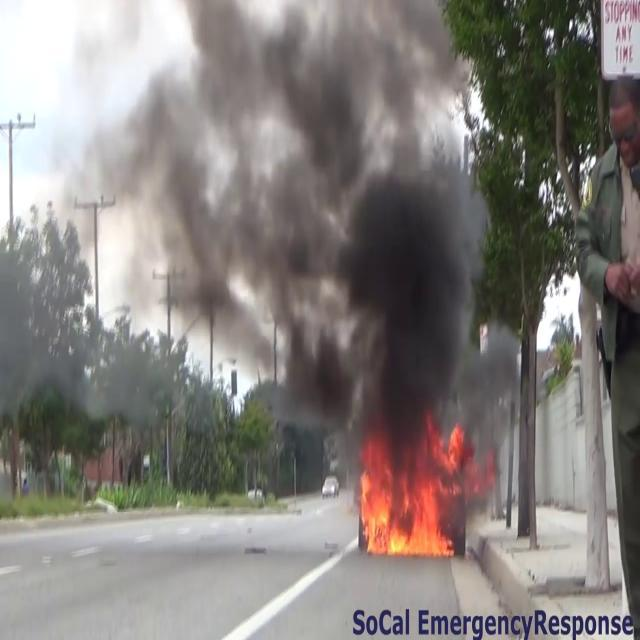Fire: (356, 437, 460, 562)
Smoke: (109, 0, 493, 443)
